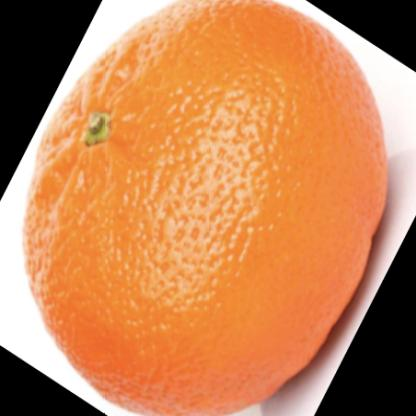fresh: (25, 1, 390, 416)
